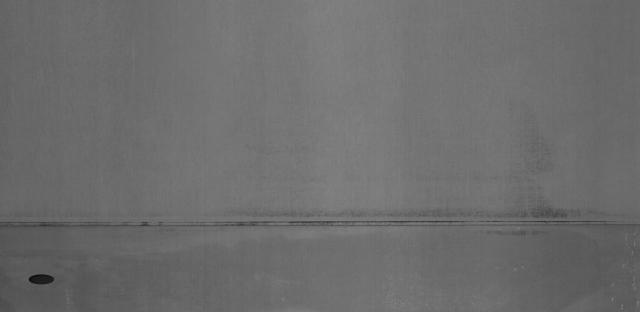punching_hole: (23, 266, 58, 290)
welding_line: (3, 205, 637, 235)
